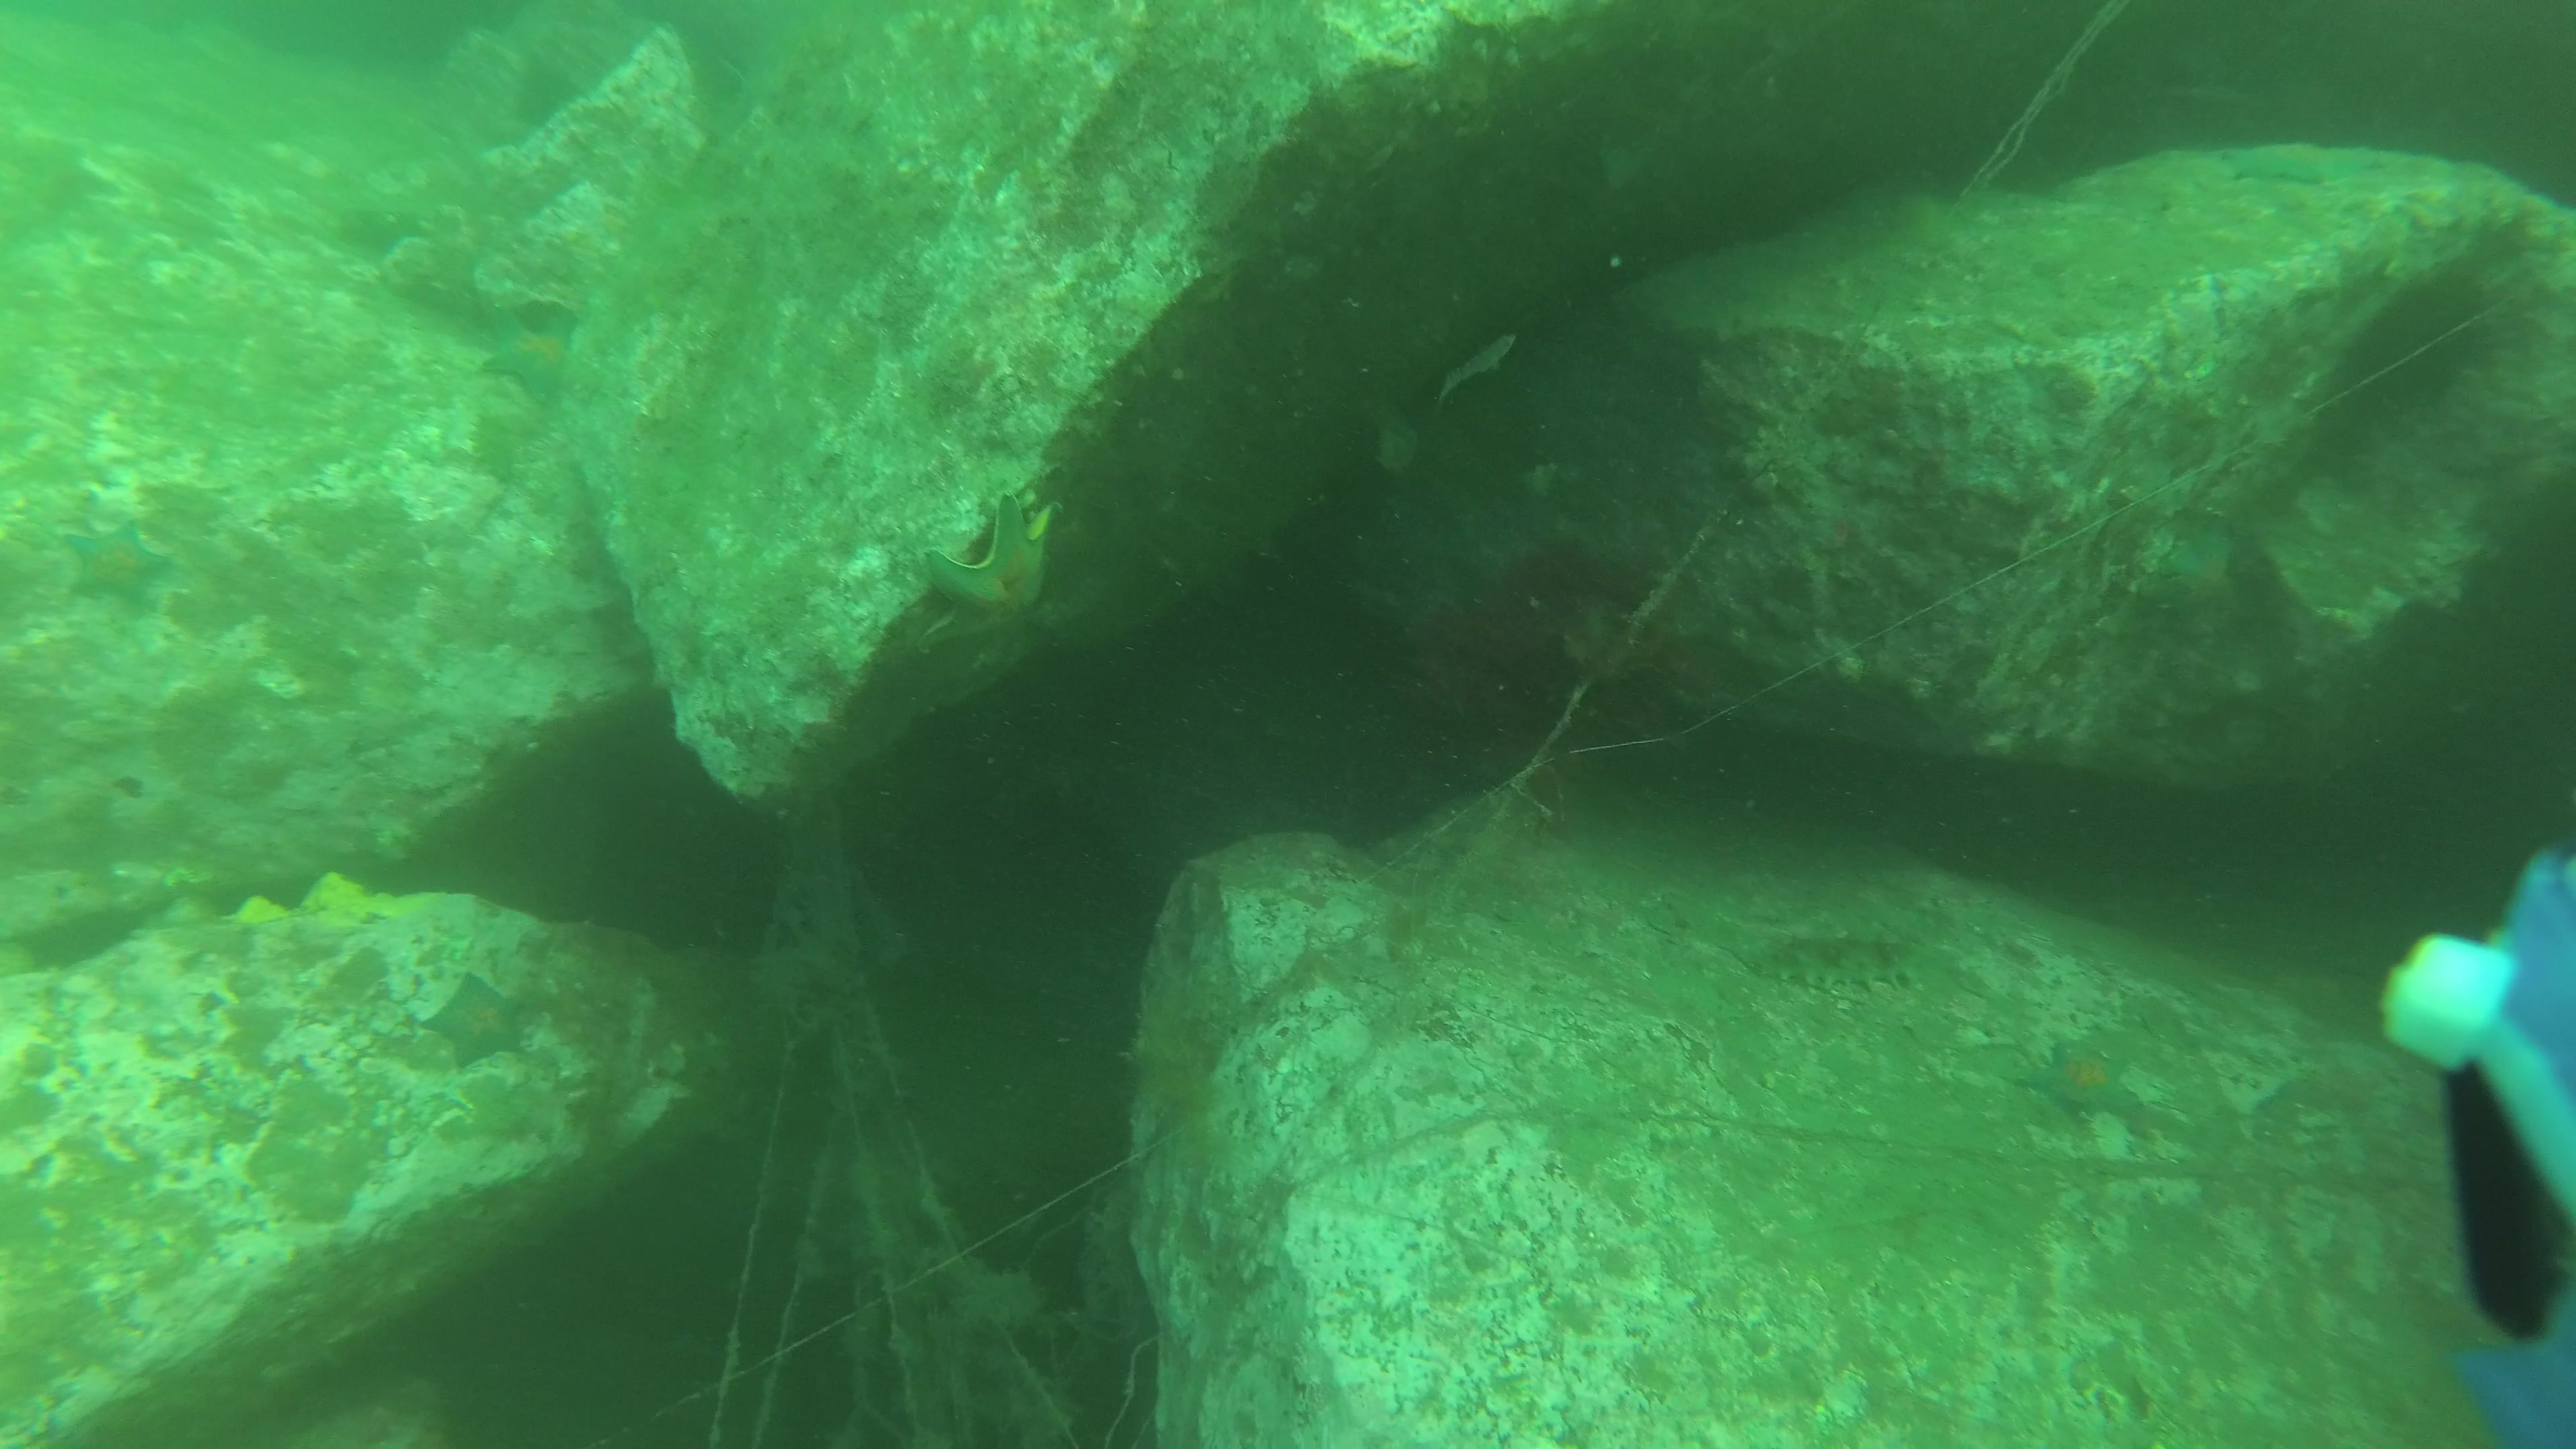holothurian: (1734, 927, 1943, 1001)
starfish: (916, 488, 1067, 655), (416, 962, 541, 1072), (60, 510, 179, 617), (2028, 1033, 2153, 1127), (481, 297, 589, 405), (2229, 133, 2364, 189)
